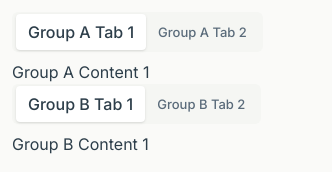
Scenario: Multiple Tab Groups › renders multiple independent tab groups
Expected: the text "Group A Content 1" is shown, x1=12 y1=62 x2=149 y2=82
Expected: the text "Group B Content 1" is shown, x1=12 y1=134 x2=149 y2=154
Note: Change first group
Click the tab "Group A Tab 2" at (202, 32), box x1=146 y1=17 x2=259 y2=47
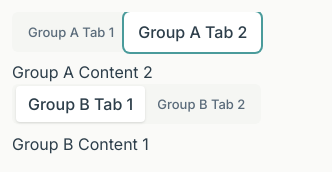
Expected: the text "Group B Content 1" is shown, x1=12 y1=134 x2=149 y2=154
Result: the text "Group A Content 2" is shown at x1=12 y1=62 x2=153 y2=82
